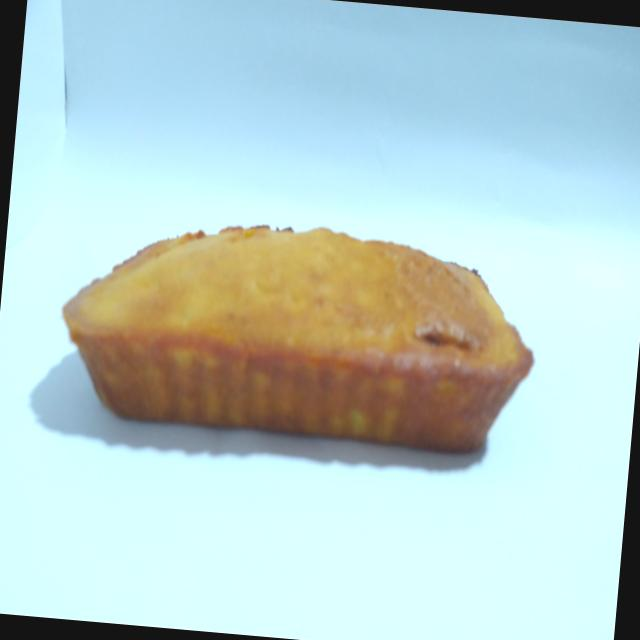Sopa: (49, 177, 562, 496)
